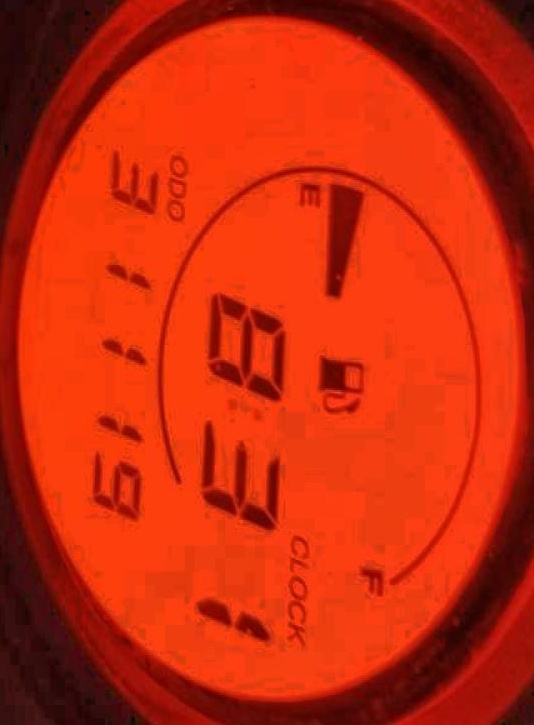1: (195, 593, 270, 641), (96, 411, 141, 441), (105, 260, 150, 290), (100, 336, 146, 365)
3: (200, 419, 279, 528), (110, 148, 157, 213)
8: (206, 290, 285, 400)
9: (91, 450, 138, 520)
X: (358, 565, 382, 595), (299, 180, 320, 206), (289, 533, 309, 558), (287, 574, 306, 598), (286, 619, 305, 643), (165, 198, 184, 221), (168, 153, 186, 174), (287, 600, 304, 621), (167, 175, 184, 196), (289, 556, 305, 570)
